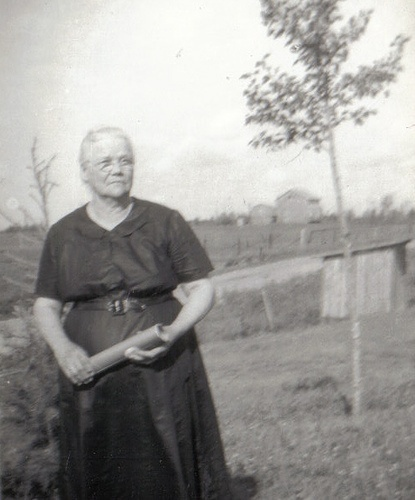head: (77, 128, 137, 202)
person: (25, 120, 220, 500)
